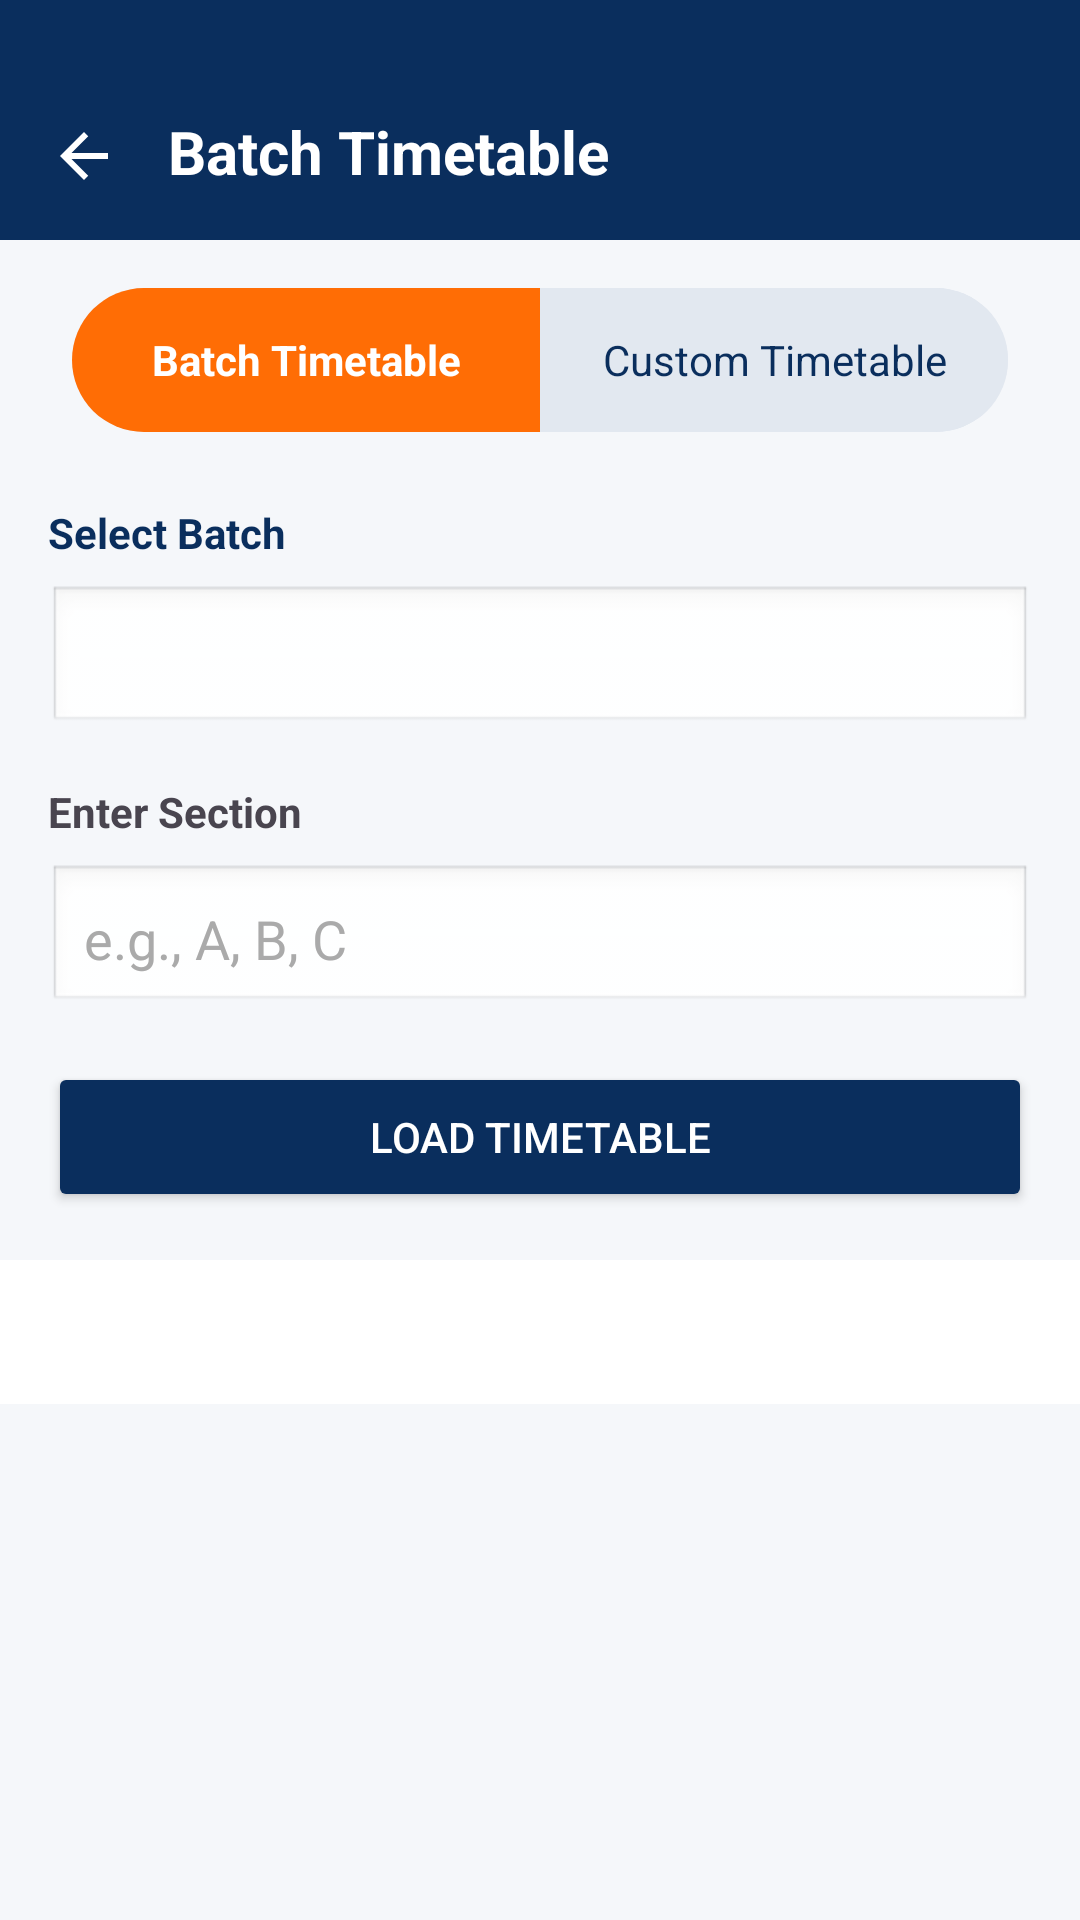

Icons on this 1080*1920 Android screen, each with its box as BBox(x1, y1, x2, y2):
Back: BBox(60, 132, 108, 180)
